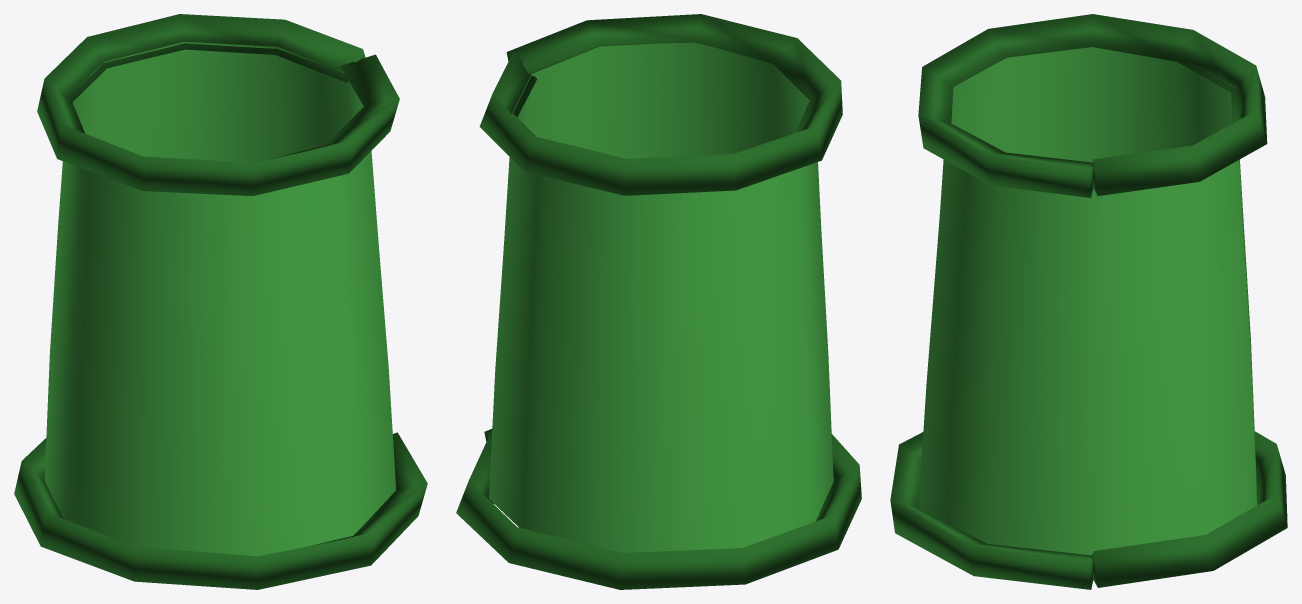
Rendered from chlorophyte_armor_bracer.R.glb.
The picture shows the model from 3 angles, left to right: view 1: azimuth 30°, elevation 25°; view 2: azimuth 150°, elevation 25°; view 3: azimuth 270°, elevation 25°; orthographic projection.
Visible parts, largest first — view 1: chlorophyte_armor_bracer.R; view 2: chlorophyte_armor_bracer.R; view 3: chlorophyte_armor_bracer.R.
Part boxes in pixels (left/top/right/bottom): chlorophyte_armor_bracer.R: left=14, top=14, right=427, bottom=589; chlorophyte_armor_bracer.R: left=456, top=14, right=861, bottom=589; chlorophyte_armor_bracer.R: left=890, top=14, right=1287, bottom=589.
Size of the model in its own units: 0.1516 by 0.1719 by 0.1476.
